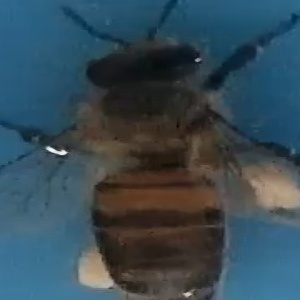bee: (30, 6, 297, 300)
